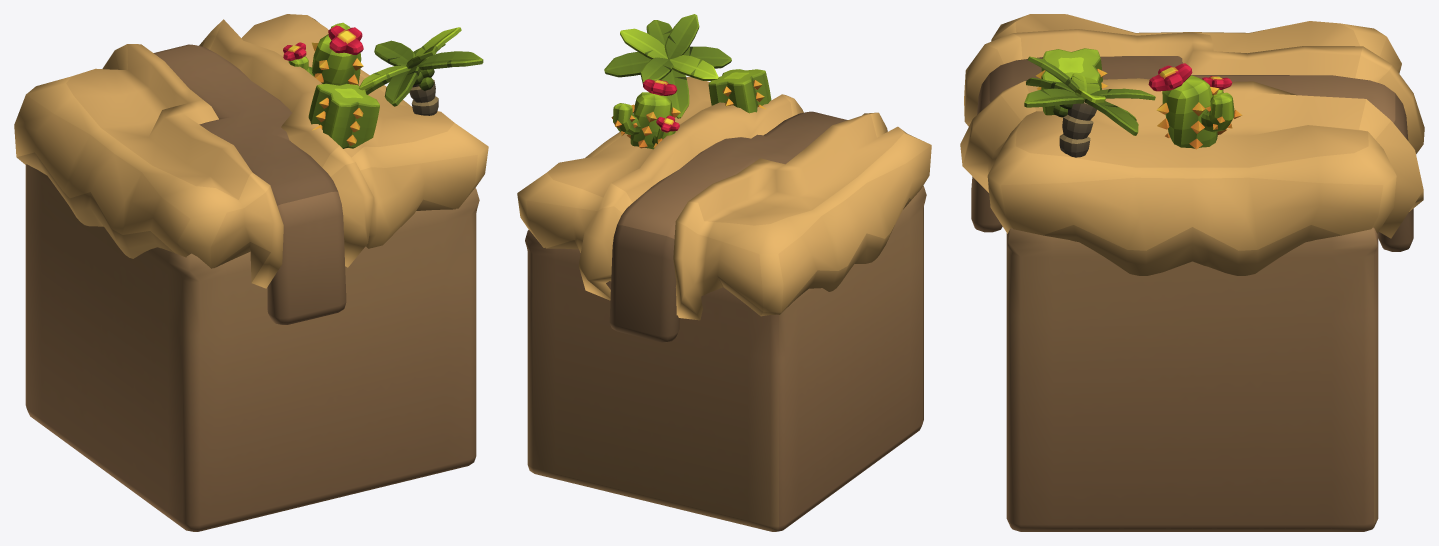
File: Desert9.fbx
3 views of the same model, side by side, from view 1: azimuth 30°, elevation 25°; view 2: azimuth 150°, elevation 25°; view 3: azimuth 270°, elevation 25° (orthographic). The views are drawn at different scales.
Visible parts, largest first — view 1: Desert9, Desert_Cube3.004, Road9.003, Desert_Cube_09 .002; view 2: Desert9, Desert_Cube3.004, Road9.003, Desert_Cube_09 .002; view 3: Desert9, Desert_Cube3.004, Desert_Cube_09 .002, Road9.003.
Boxes of the visible parts, x1,y1,x2,y2 form: Desert9: [25, 164, 479, 531]; Desert_Cube3.004: [14, 14, 488, 288]; Road9.003: [153, 44, 346, 324]; Desert_Cube_09 .002: [283, 22, 483, 148]; Desert9: [525, 186, 926, 531]; Desert_Cube3.004: [517, 77, 931, 320]; Road9.003: [609, 111, 847, 342]; Desert_Cube_09 .002: [604, 14, 771, 149]; Desert9: [1006, 227, 1378, 531]; Desert_Cube3.004: [960, 14, 1424, 275]; Desert_Cube_09 .002: [1024, 48, 1242, 157]; Road9.003: [971, 56, 1413, 251].
Bounding box in the file's own units: 111 × 137 × 125.
